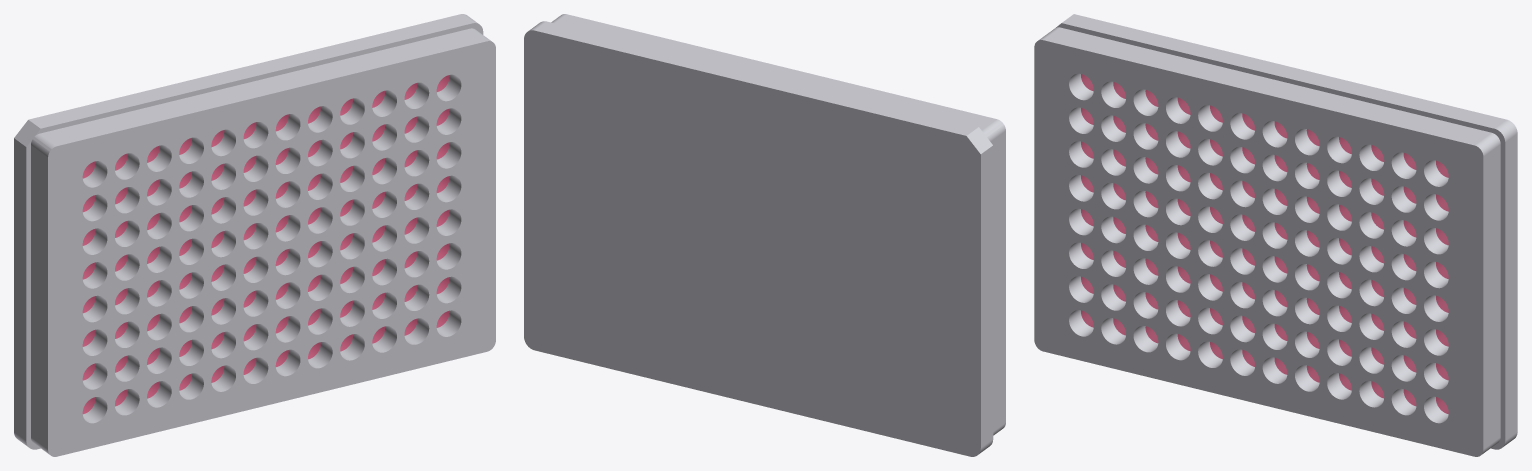
The model's file is Plate_DEMO.glb.
The picture shows the model from 3 angles, left to right: view 1: azimuth 30°, elevation 25°; view 2: azimuth 150°, elevation 25°; view 3: azimuth 330°, elevation 25°; orthographic projection.
Parts seen in each view (by area): view 1: /World/Demo/Plate_DEMO/Visual/Body, /World/Demo/Plate_DEMO/Visual/Medium; view 2: /World/Demo/Plate_DEMO/Visual/Body; view 3: /World/Demo/Plate_DEMO/Visual/Body, /World/Demo/Plate_DEMO/Visual/Medium.
Boxes of the visible parts, bbox=[...] form: /World/Demo/Plate_DEMO/Visual/Body: bbox=[14, 14, 495, 456]; /World/Demo/Plate_DEMO/Visual/Medium: bbox=[82, 75, 449, 414]; /World/Demo/Plate_DEMO/Visual/Body: bbox=[524, 14, 1005, 456]; /World/Demo/Plate_DEMO/Visual/Body: bbox=[1034, 14, 1517, 456]; /World/Demo/Plate_DEMO/Visual/Medium: bbox=[1081, 74, 1448, 414].
Bounding box in the file's own units: 0.1278 × 0.0855 × 0.0143.
